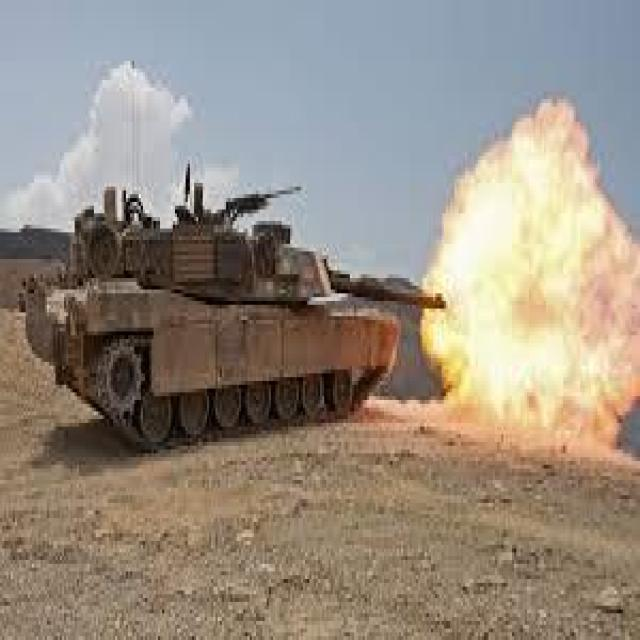MIL_MBT: (16, 162, 453, 432)
